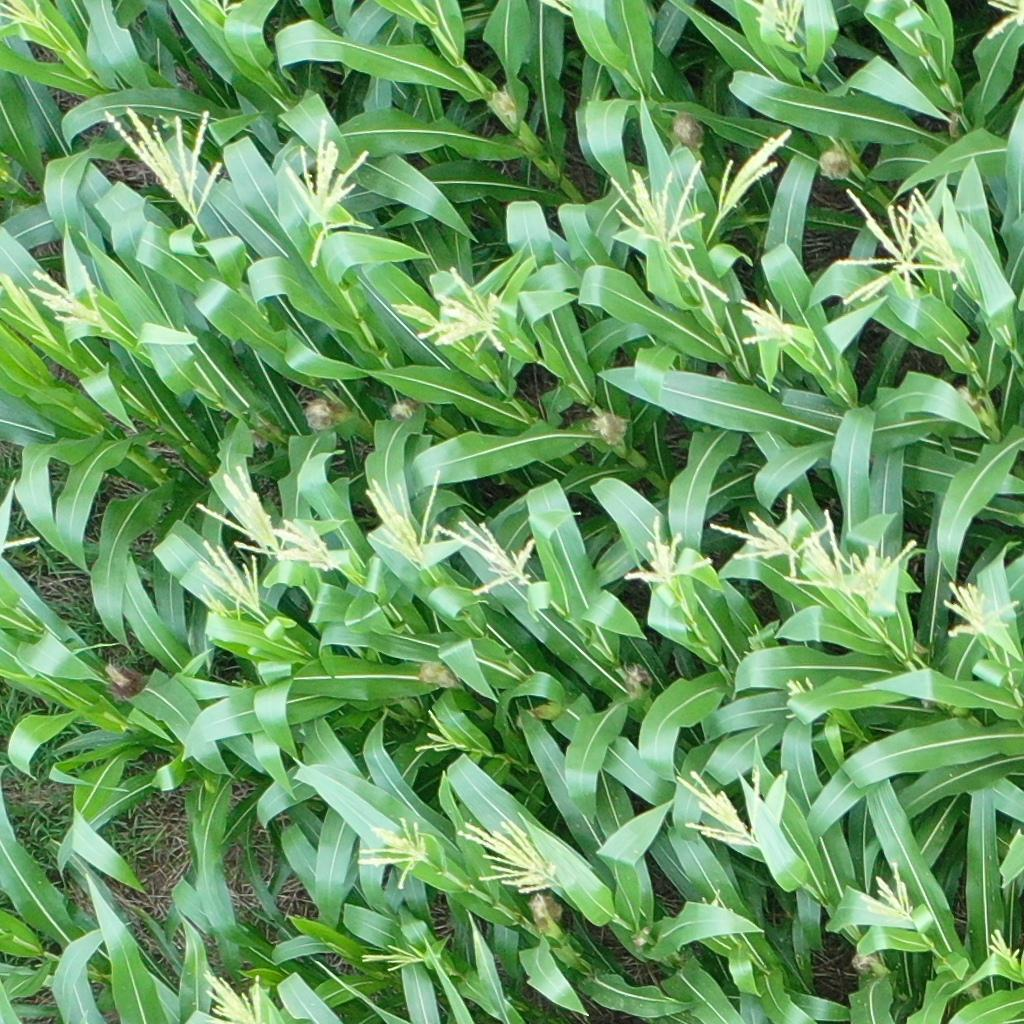Tassel: (608, 158, 729, 299), (101, 100, 229, 227), (284, 118, 369, 267), (788, 509, 919, 601), (393, 259, 511, 356), (842, 186, 929, 307), (711, 493, 829, 581), (194, 461, 292, 560), (359, 466, 444, 576), (454, 811, 562, 895), (444, 514, 544, 597), (675, 768, 769, 852), (29, 253, 119, 337), (716, 126, 796, 216), (622, 512, 711, 591), (891, 186, 969, 275), (193, 537, 268, 615), (355, 818, 432, 890), (941, 576, 1019, 641), (857, 858, 923, 925), (273, 514, 338, 576), (201, 964, 268, 1024), (1, 270, 54, 342), (737, 292, 797, 349), (743, 1, 807, 45), (412, 708, 464, 754), (194, 582, 242, 626), (360, 941, 423, 970), (986, 921, 1023, 967), (781, 673, 817, 719), (1, 1, 51, 34), (984, 1, 1024, 38), (201, 1, 240, 15)
